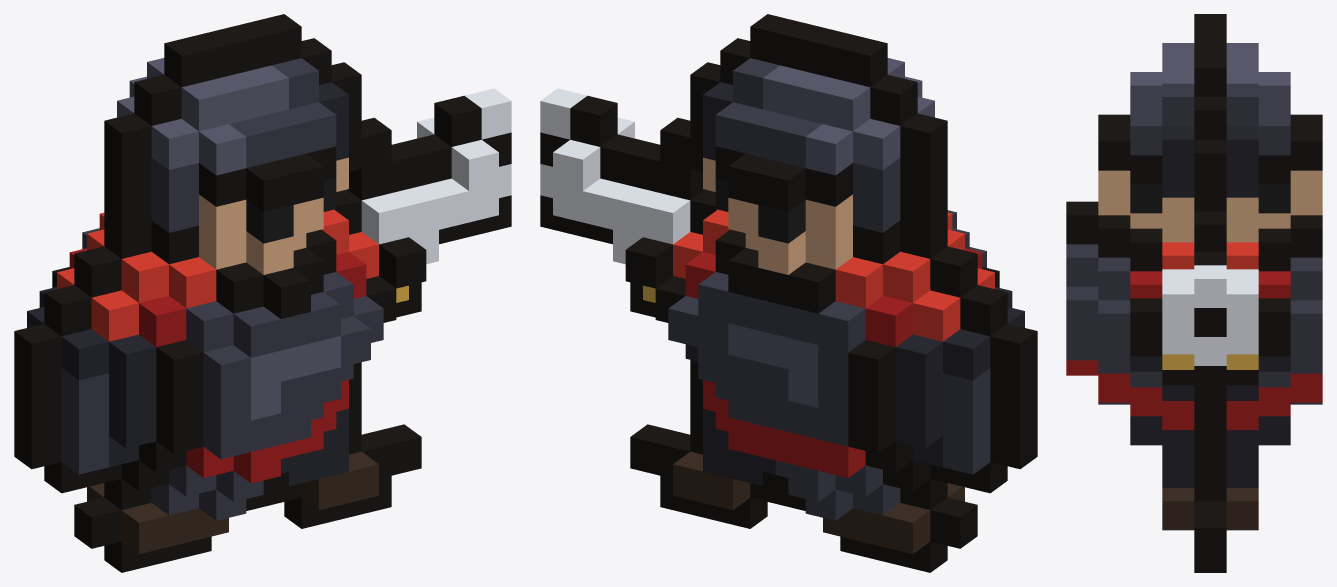
Rendered from samurai.glb.
3 views of the same model, side by side, from view 1: azimuth 30°, elevation 25°; view 2: azimuth 150°, elevation 25°; view 3: azimuth 270°, elevation 25° (orthographic). The views are drawn at different scales.
Parts seen in each view (by area): view 1: f0, f6, f3, f2, f4, f1; view 2: f0, f6, f3, f2, f1; view 3: f0, f6, f4, f2, f3.
Part boxes in pixels (x1,y1,x2,y2): f0: (14,14,511,572); f6: (347,133,511,288); f3: (74,402,421,571); f2: (246,401,336,510); f4: (199,363,361,539); f1: (421,147,481,240); f0: (540,14,1037,572); f6: (540,133,704,288); f3: (630,398,977,569); f2: (715,398,847,510); f1: (570,148,629,240); f0: (1066,14,1322,572); f6: (1130,269,1290,394); f4: (1194,412,1226,501); f2: (1098,373,1322,402); f3: (1194,515,1226,572).
Size of the model in its own units: 1 by 1 by 0.5.
